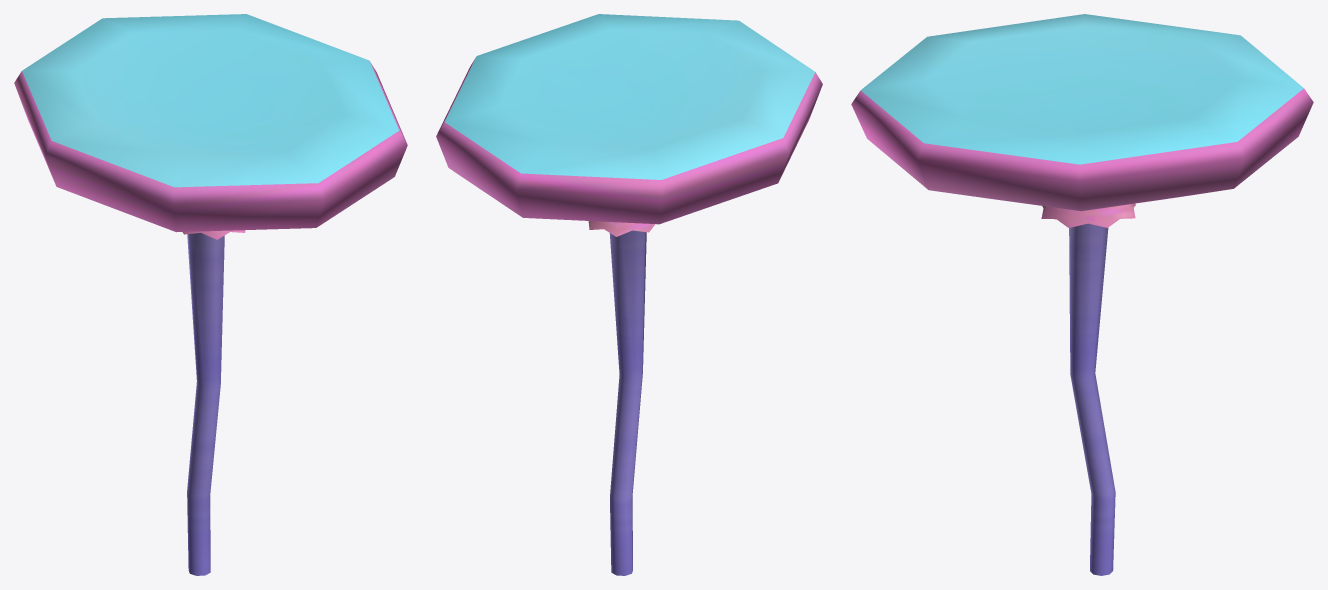
File: setas_plataforma.fbx
3 views of the same model, side by side, from view 1: azimuth 30°, elevation 25°; view 2: azimuth 150°, elevation 25°; view 3: azimuth 270°, elevation 25° (orthographic). The views are drawn at different scales.
Visible parts, largest first — view 1: SetaM06, SetaM02; view 2: SetaM06, SetaM02; view 3: SetaM06, SetaM02.
Boxes of the visible parts, x1,y1,x2,y2 form: SetaM06: [14, 14, 407, 239]; SetaM02: [187, 233, 224, 575]; SetaM06: [436, 14, 822, 236]; SetaM02: [609, 230, 646, 575]; SetaM06: [851, 14, 1313, 227]; SetaM02: [1069, 223, 1115, 575].
Bounding box in the file's own units: 4076 × 5774 × 4907.
